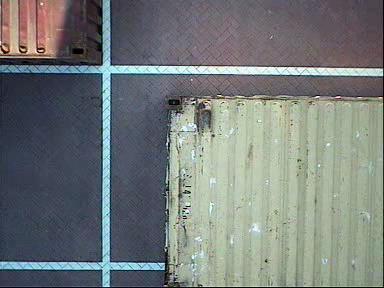groundmarker_2: (184, 156, 219, 212)
